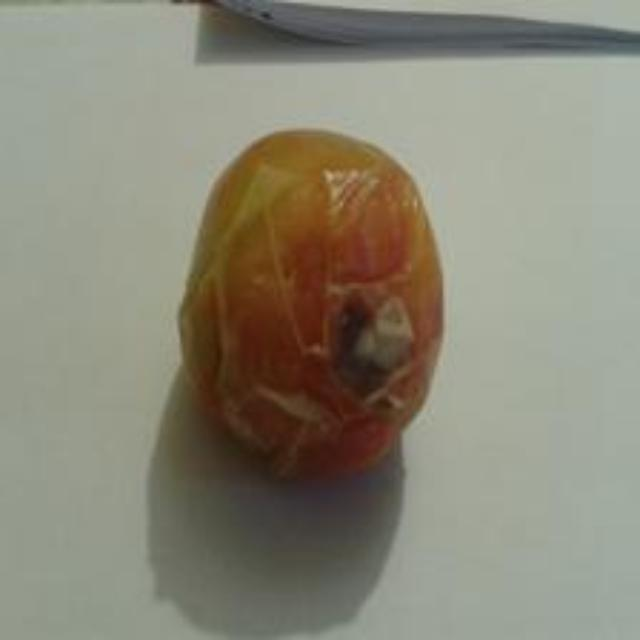defect: (171, 110, 464, 498)
